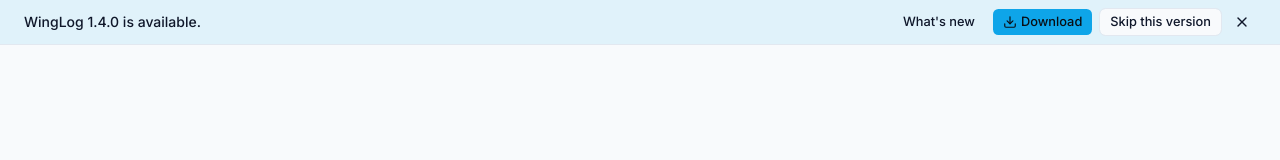
Test case: UpdateBanner › dismissing hides it for this session, but a newer release still shows
What coordinates should you click on to do the following:
click the button named "Dismiss for now"
I would click on:
 (1242, 22)
Its box is [1228,8,1256,36].
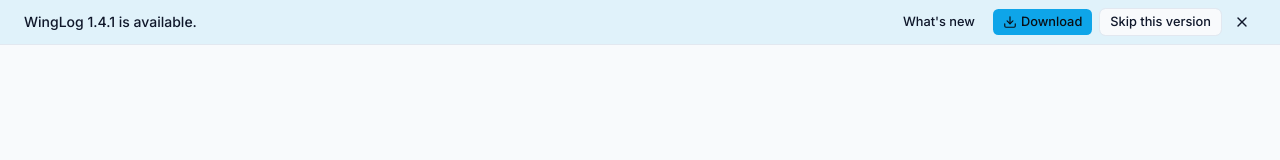
Check: the text "WingLog 1.4.0 is available." is gone
Check: the text "WingLog 1.4.1 is available." is shown, box [24,12,197,32]
